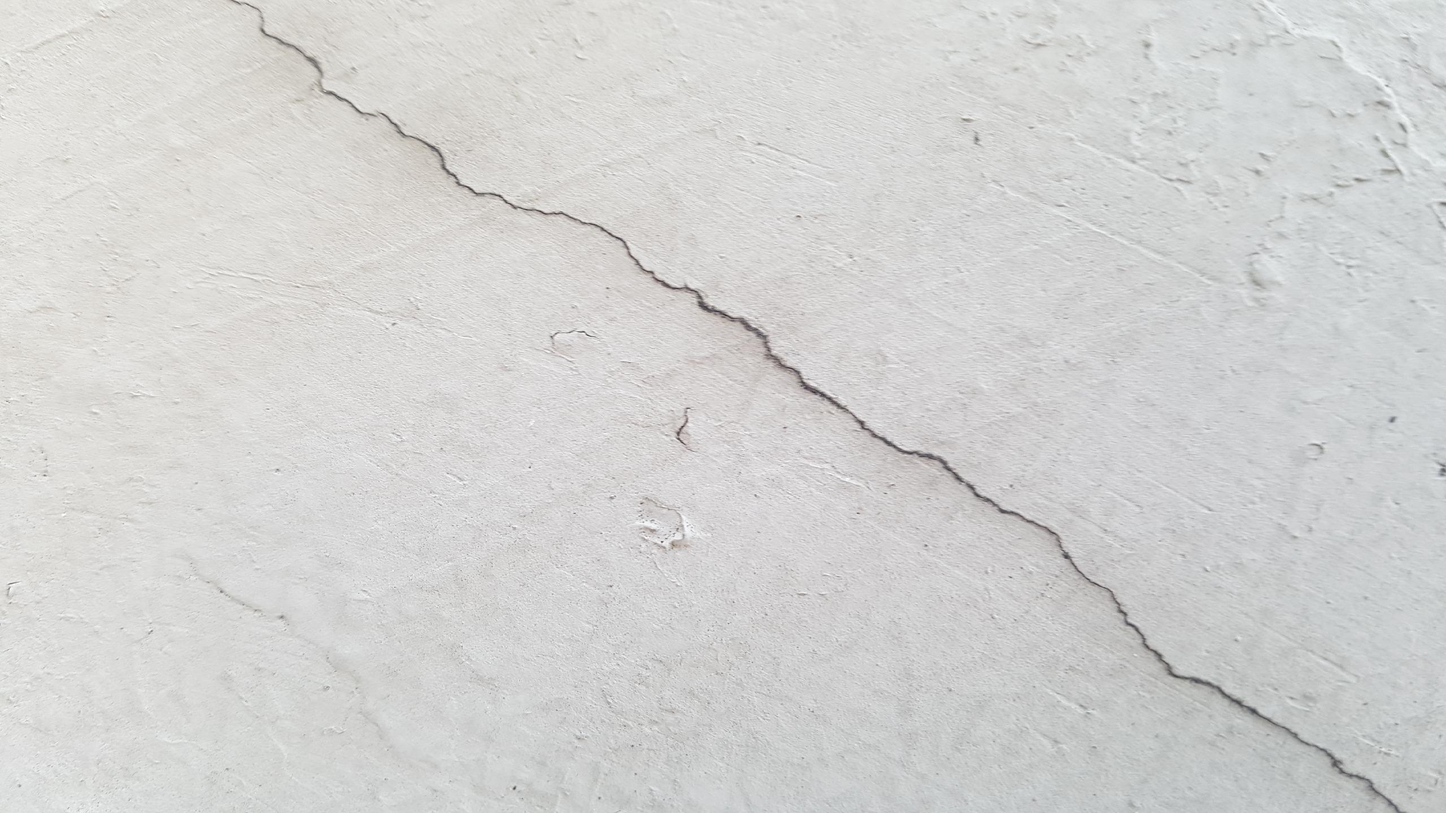crack: (239, 1, 1405, 811)
